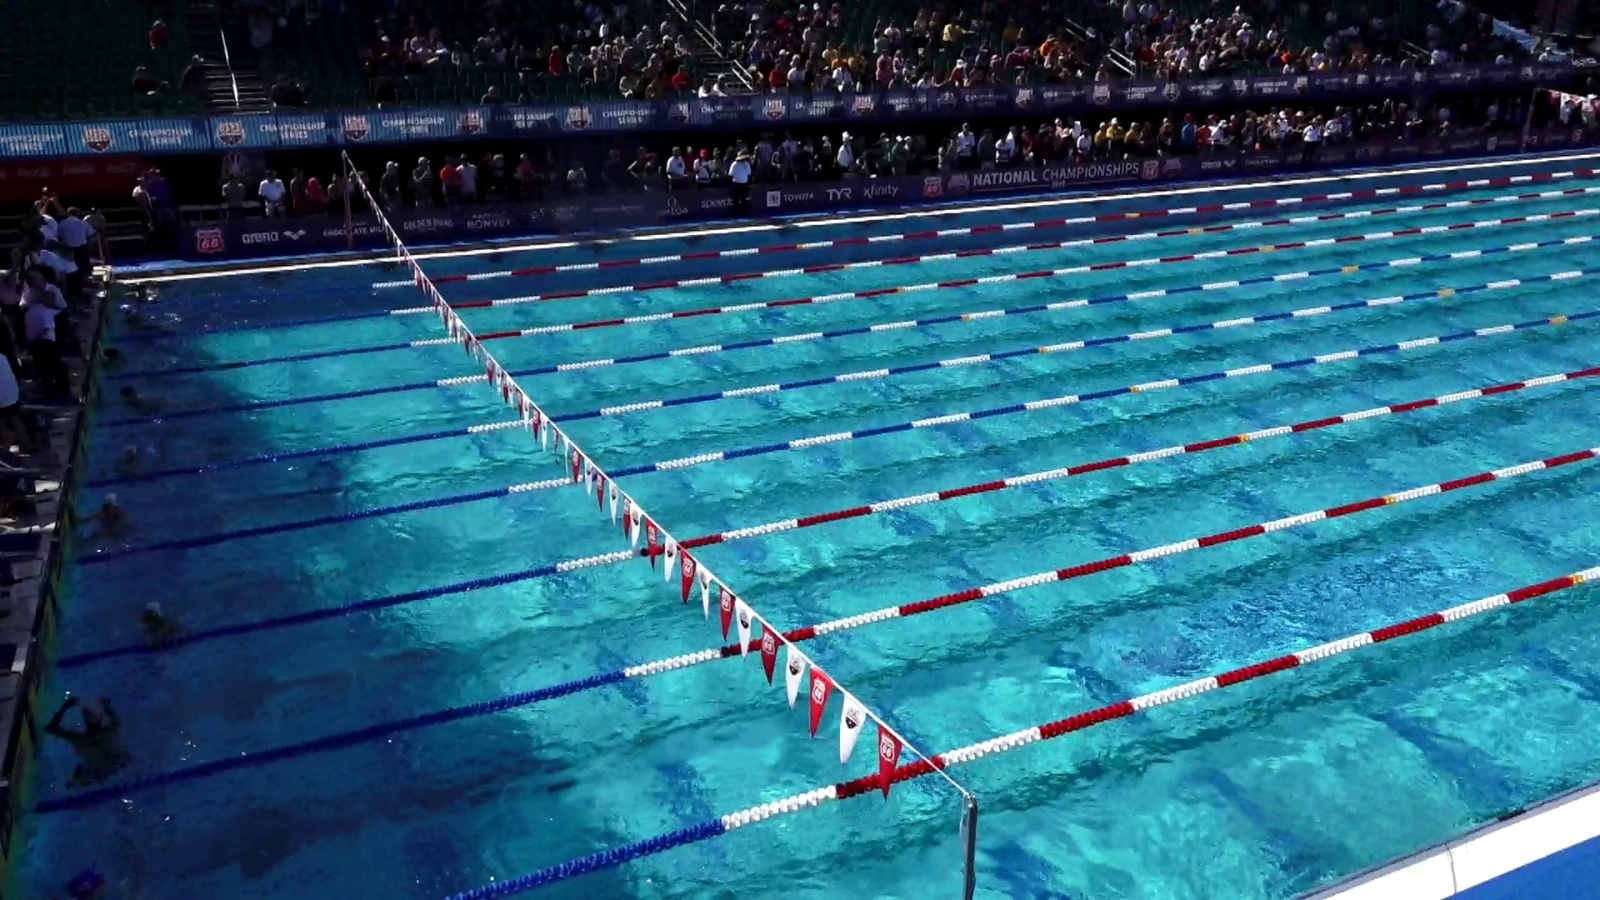swimmerw: (46, 689, 130, 797), (85, 488, 135, 557), (134, 600, 193, 655), (120, 305, 176, 338), (118, 385, 167, 420), (105, 443, 146, 484), (95, 341, 129, 373), (125, 280, 162, 308)
